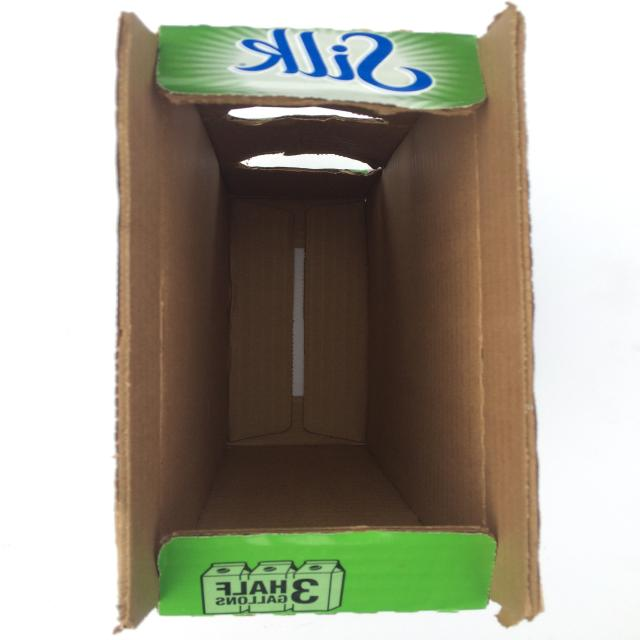cardboard: (112, 1, 543, 632)
